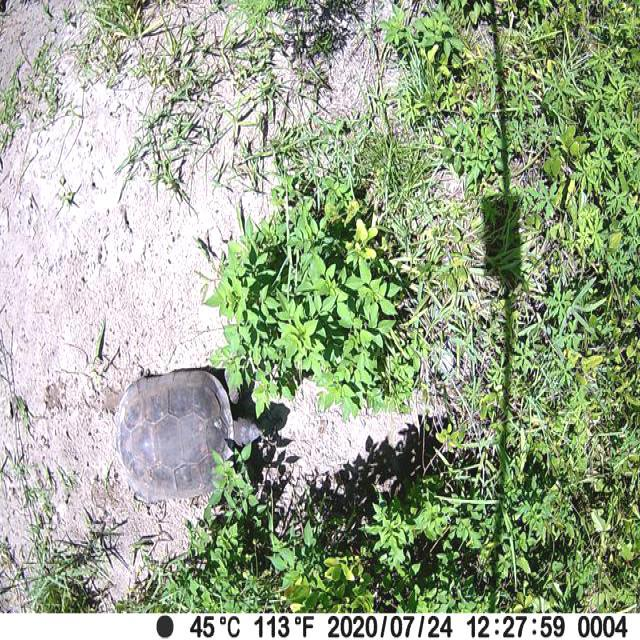tortoise: (112, 361, 263, 499)
